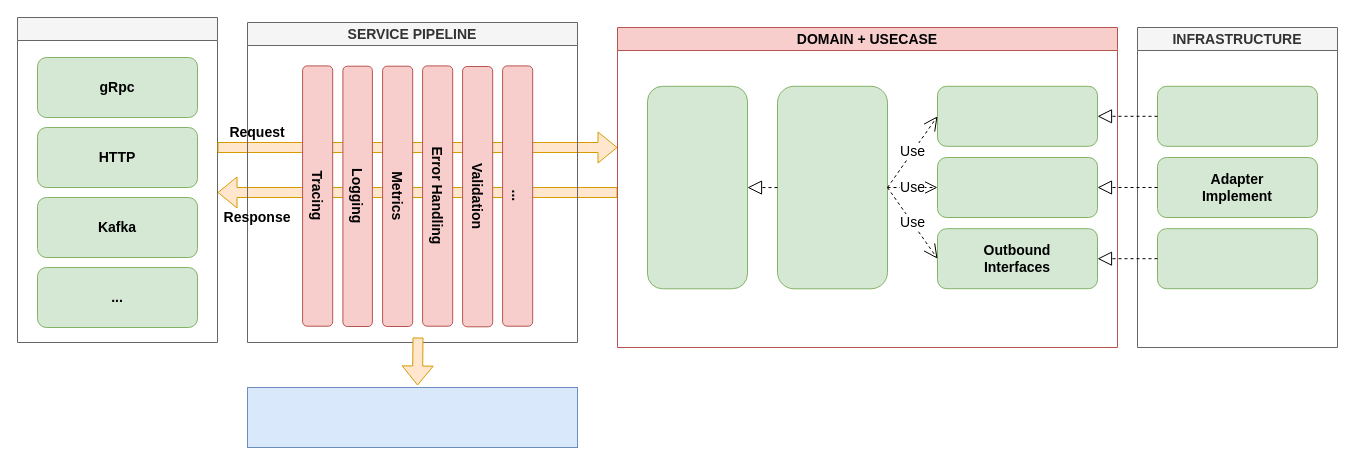
Image size: 1355x465. Some labels were removed from this diagram. Each missing label, with the box of its shape:
Adapter Interfaces: (936, 156, 1098, 218)
CENTRAL SYSTEMS: (246, 386, 578, 448)
Data Implement: (1156, 85, 1318, 146)
Data Interfaces: (936, 85, 1098, 146)
Outbound Implement: (1156, 228, 1318, 289)
PRESENTATION: (16, 16, 218, 342)
Request Handler Implement: (776, 85, 888, 289)
Request Handler Interfaces (Usecases): (646, 85, 748, 289)
